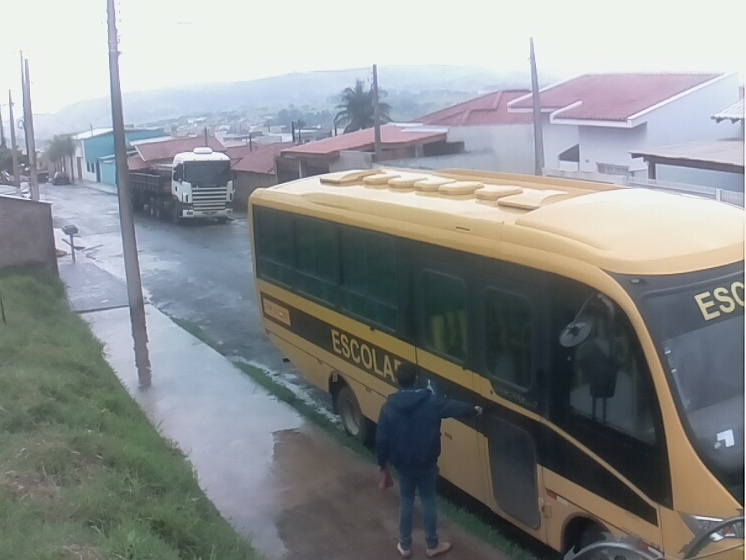person: (375, 361, 485, 560)
